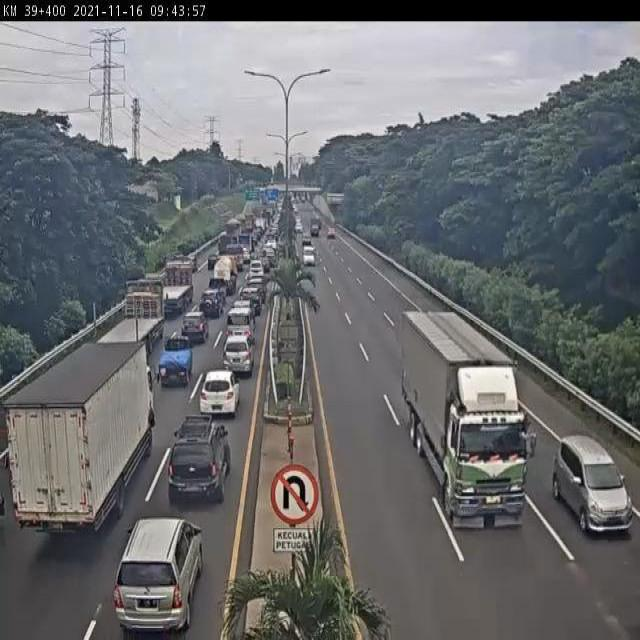car: (114, 516, 206, 631), (554, 433, 634, 540), (164, 415, 231, 513), (199, 368, 239, 421), (156, 333, 195, 387), (222, 335, 255, 380), (225, 308, 254, 348), (178, 312, 206, 345), (199, 291, 222, 321)
truck-l-: (399, 308, 538, 529), (89, 283, 163, 360), (150, 259, 192, 317)
truck-m-: (2, 341, 155, 539)
